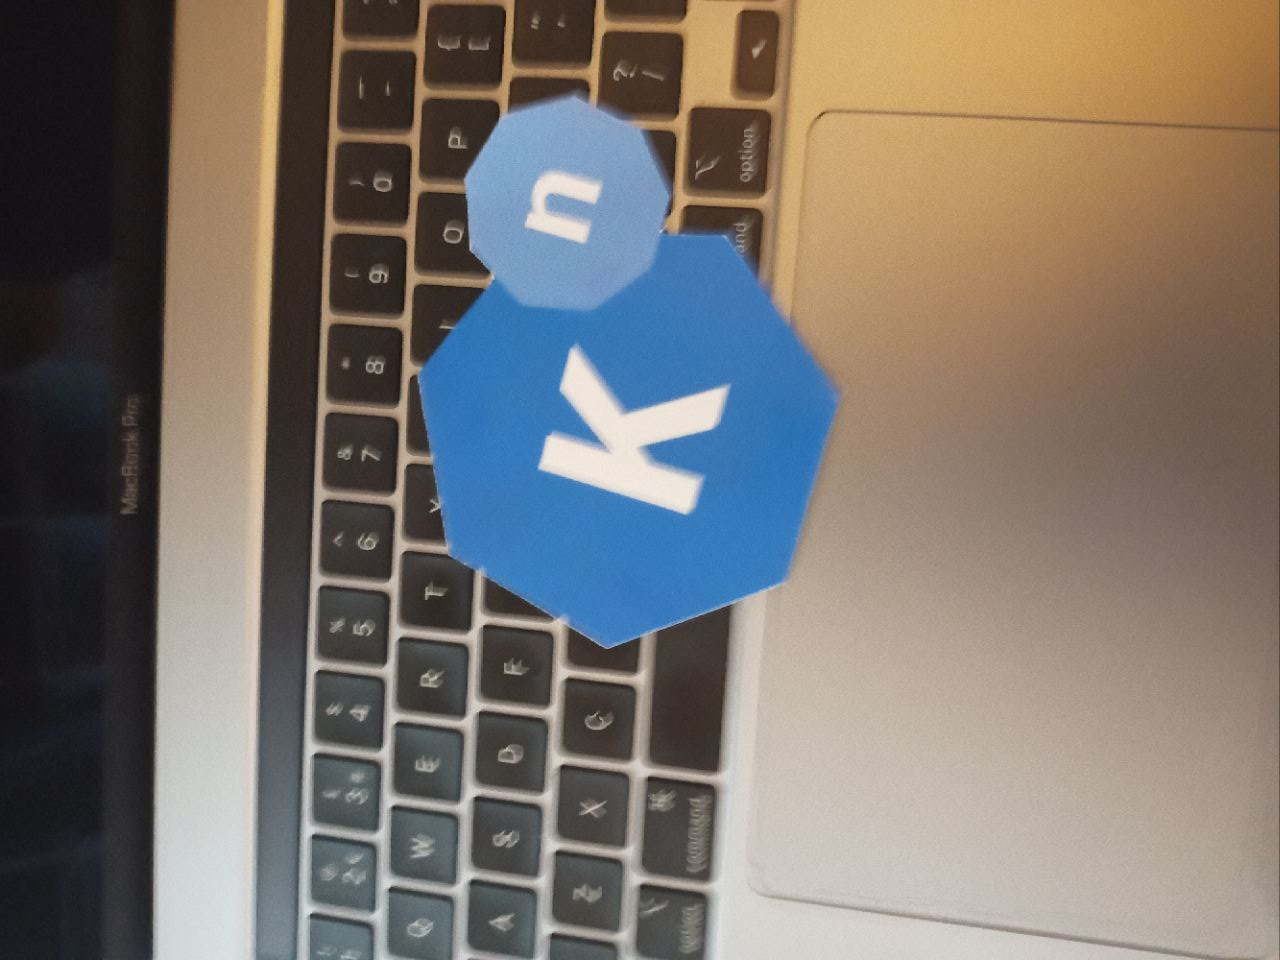knative: (411, 96, 840, 647)
